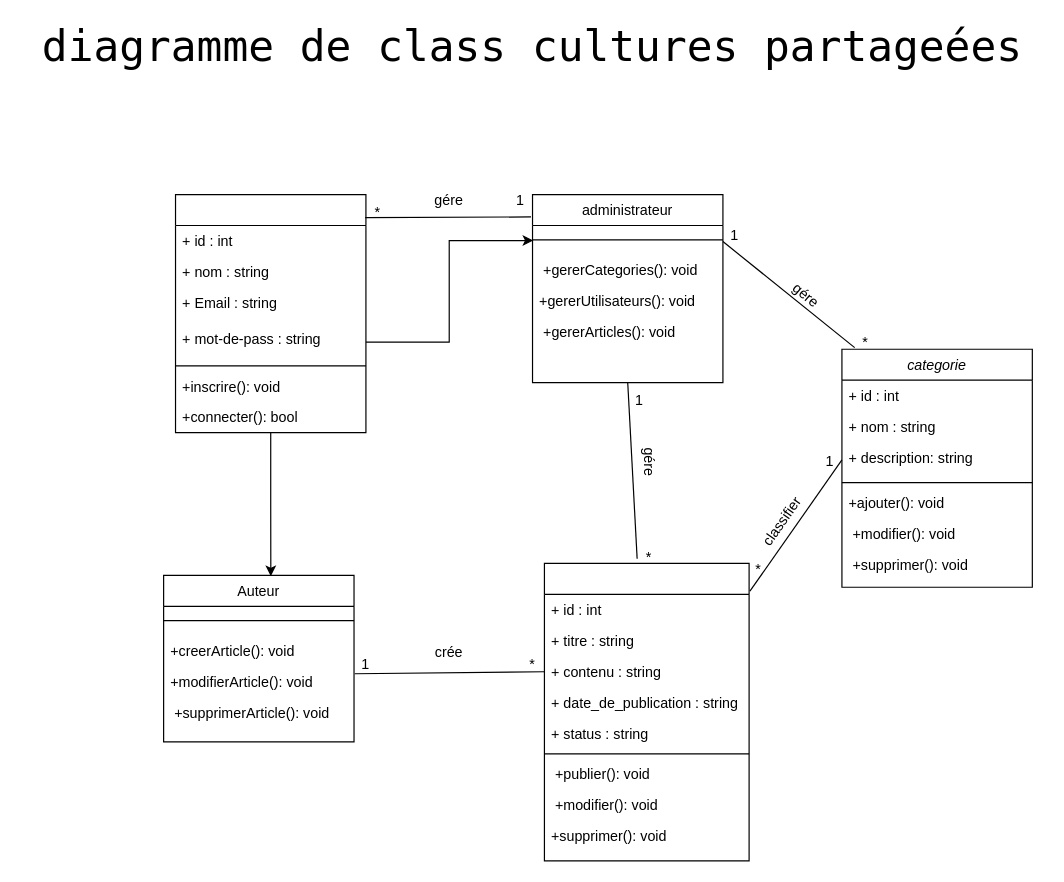
Some shapes in this 1064 by 882 pixel diagram are drawn without their labels. The shapes that lost their labels are listed below. From the top down, each one's box as (x1, y1, x2, y2) in pixels, then its label:
(174, 193, 366, 433): utilisateur
(543, 562, 749, 861): Articles
